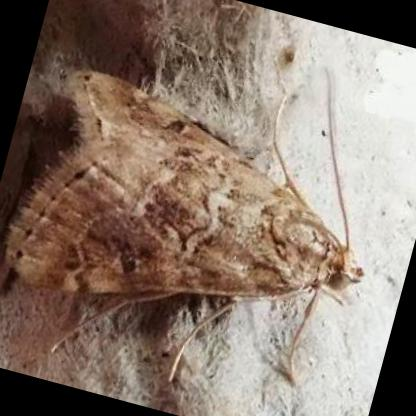Hellula undalis: (0, 48, 368, 383)
